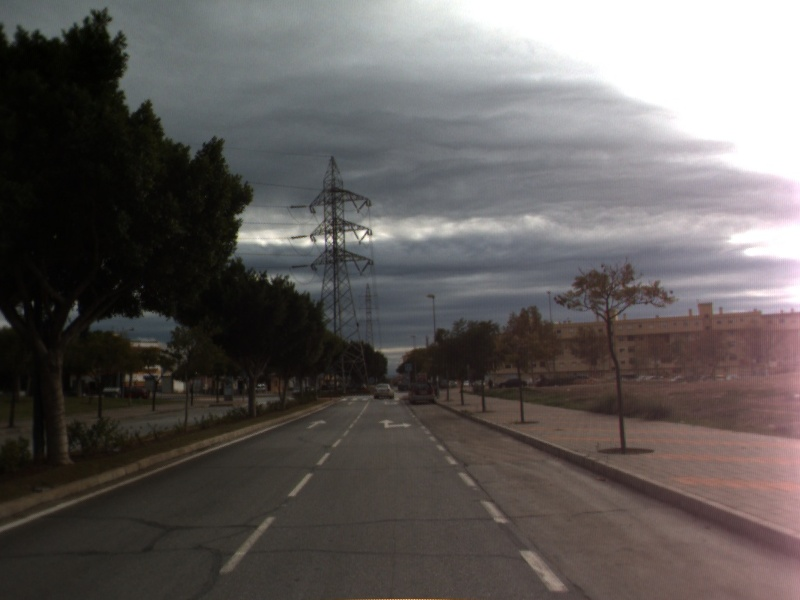STRAIGHT: (304, 417, 329, 431)
STRAIGHT_RIGHT: (377, 418, 414, 430)
